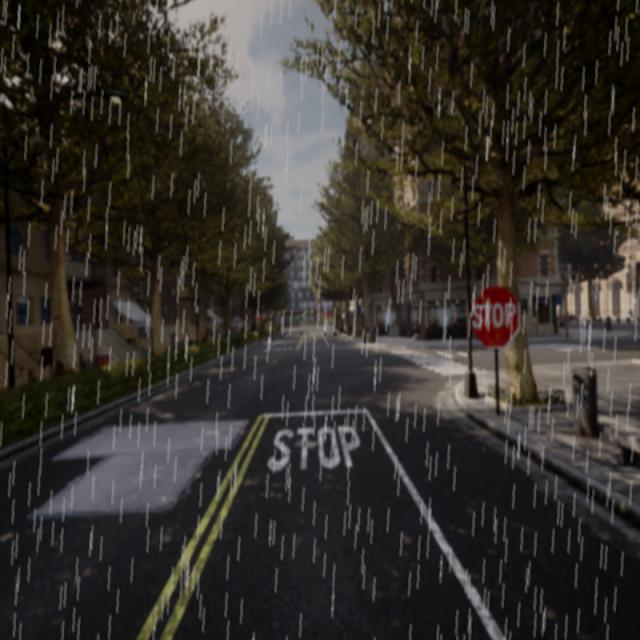stop sign: (468, 283, 522, 350)
